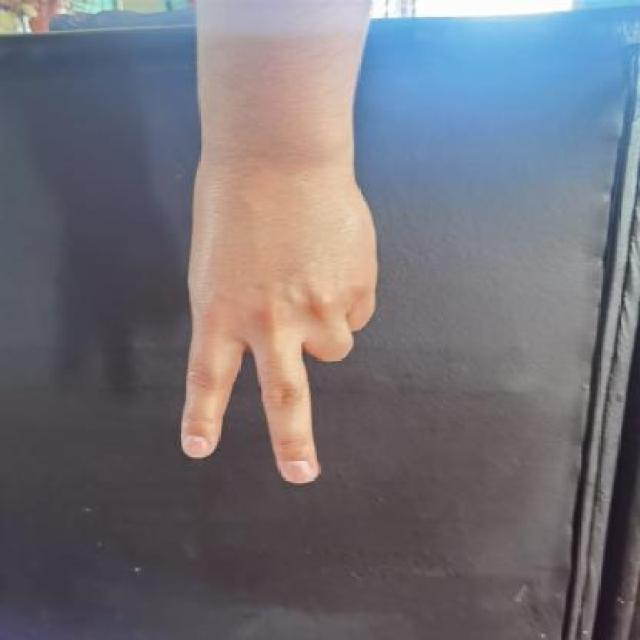N: (161, 155, 404, 483)
